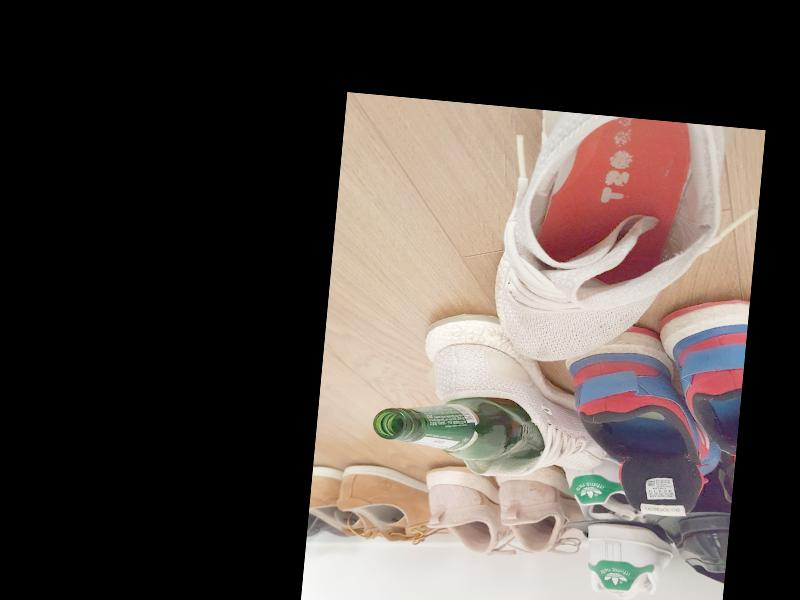Beer: (370, 387, 548, 465)
